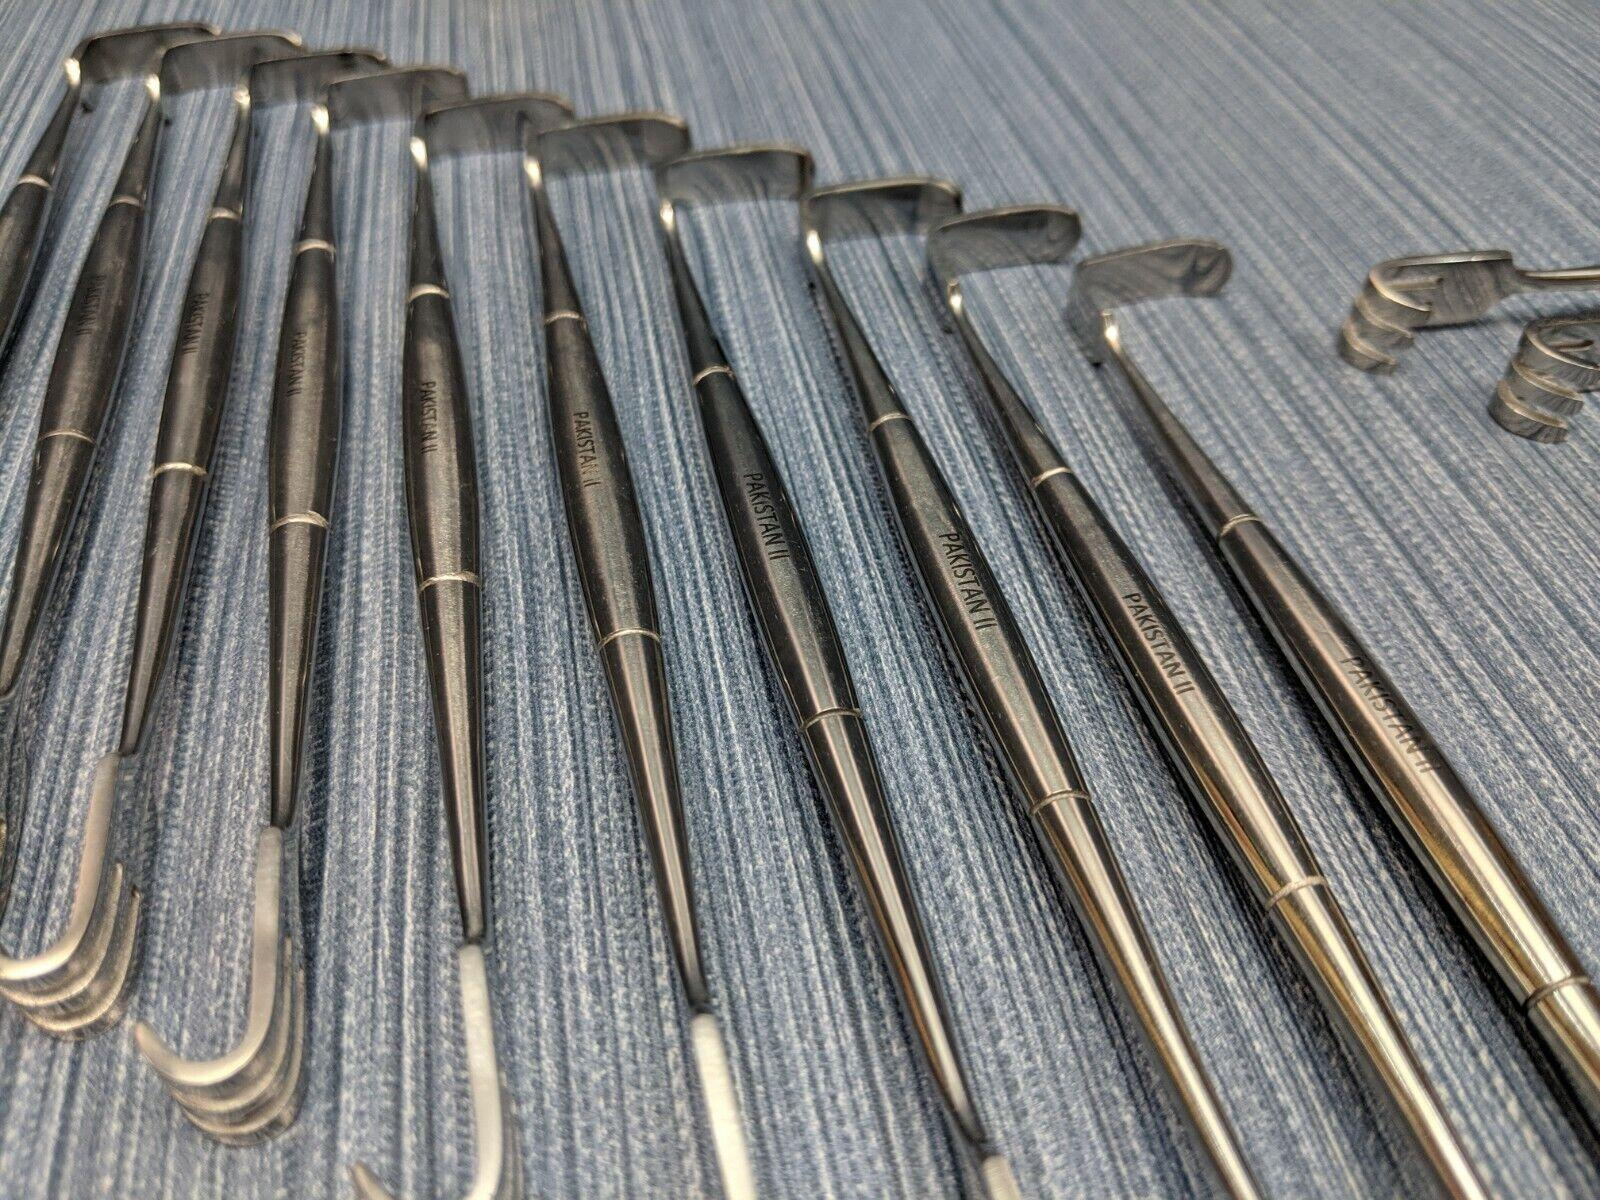Senn Retractor: (917, 192, 1518, 1200), (1043, 221, 1572, 1174), (785, 169, 1261, 1200), (626, 134, 1072, 1200), (5, 28, 398, 1050), (480, 93, 815, 1200), (129, 45, 443, 1196), (0, 1, 305, 847), (348, 67, 535, 1200)
